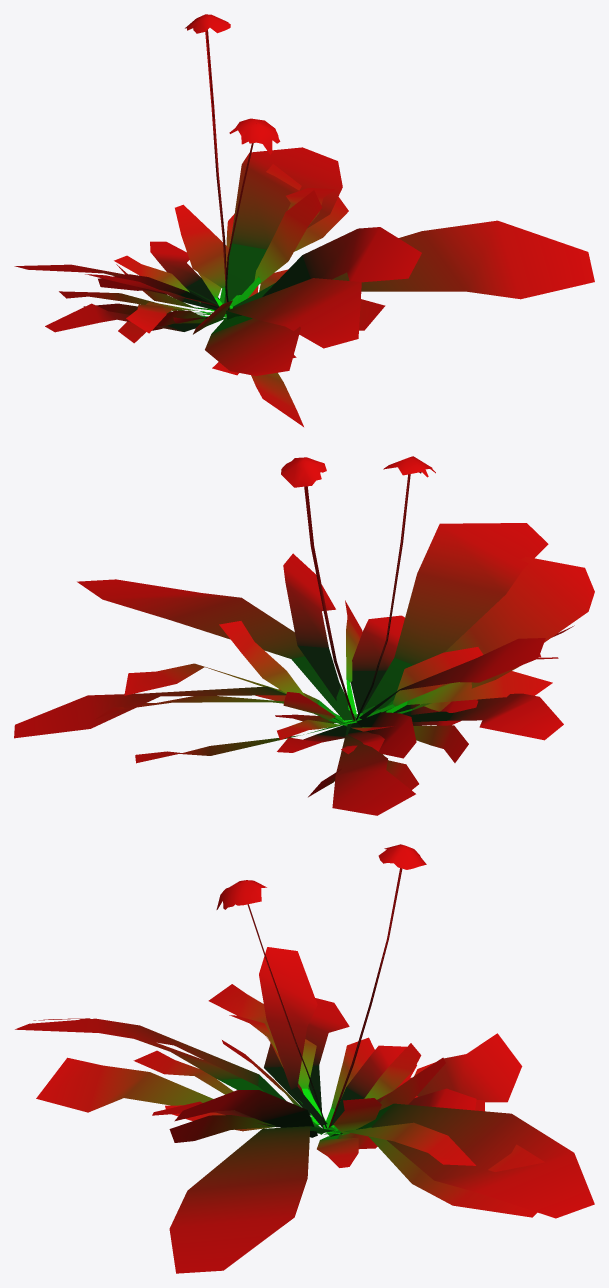
Rendered from Var3_LOD1.fbx.
The picture shows the model from 3 angles, top to bottom: view 1: azimuth 30°, elevation 25°; view 2: azimuth 150°, elevation 25°; view 3: azimuth 270°, elevation 25°; orthographic projection. The views are drawn at different scales.
Parts seen in each view (by area): view 1: _d30e_Var3_LOD1; view 2: _d30e_Var3_LOD1; view 3: _d30e_Var3_LOD1.
Boxes of the visible parts, <box> form: _d30e_Var3_LOD1: <box>14,14,594,426</box>; _d30e_Var3_LOD1: <box>14,456,594,815</box>; _d30e_Var3_LOD1: <box>15,844,594,1273</box>.
Bounding box in the file's own units: 42.93 × 23.54 × 40.36.
